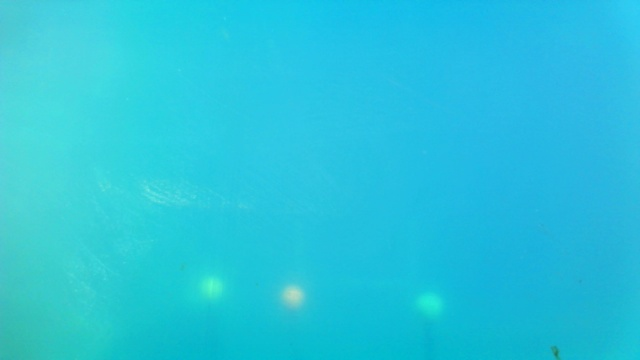buoy_red: (282, 287, 298, 305)
